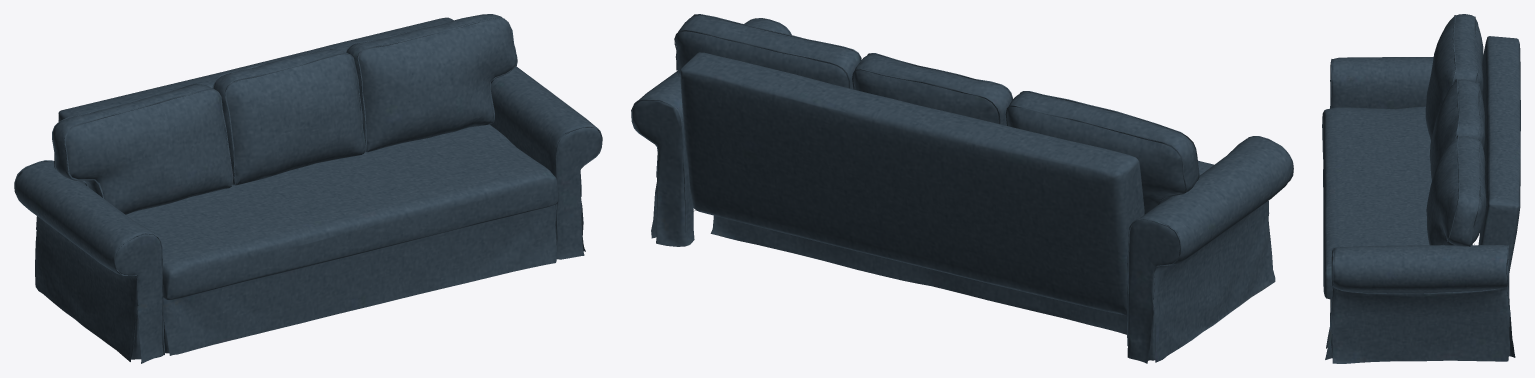
The model's file is 18 - VRETSTORP 3-seat sofa-bed - Kilanda dark blue.glb.
The picture shows the model from 3 angles, left to right: view 1: azimuth 30°, elevation 25°; view 2: azimuth 150°, elevation 25°; view 3: azimuth 270°, elevation 25°; orthographic projection. The views are drawn at different scales.
Visible parts, largest first — view 1: Mesh_0; view 2: Mesh_0; view 3: Mesh_0.
Part boxes in pixels (bbox=[...]): Mesh_0: bbox=[14, 14, 602, 363]; Mesh_0: bbox=[631, 14, 1293, 363]; Mesh_0: bbox=[1322, 14, 1520, 363].
Size of the model in its own units: 2.52 by 0.9343 by 1.
1 material, 1 textured.
